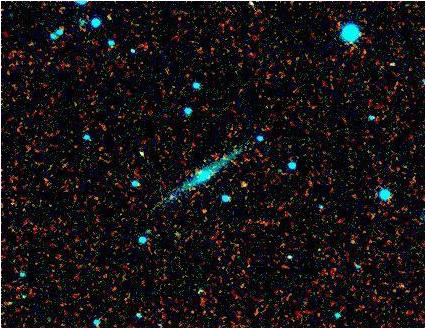star: (230, 167, 260, 197)
